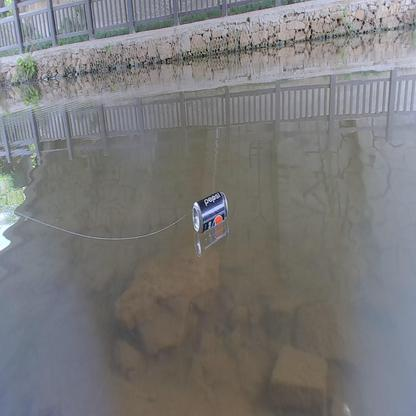can: (192, 192, 230, 233)
